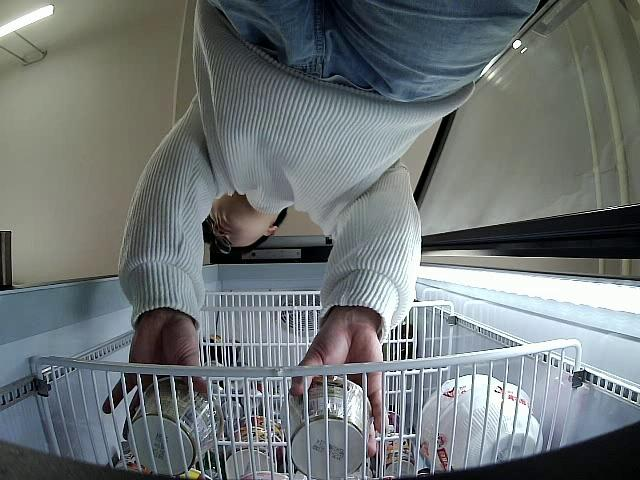00_hand: (289, 321, 386, 456), (102, 319, 207, 440)
04_chapagetti_S: (281, 376, 371, 479), (128, 378, 223, 473)
